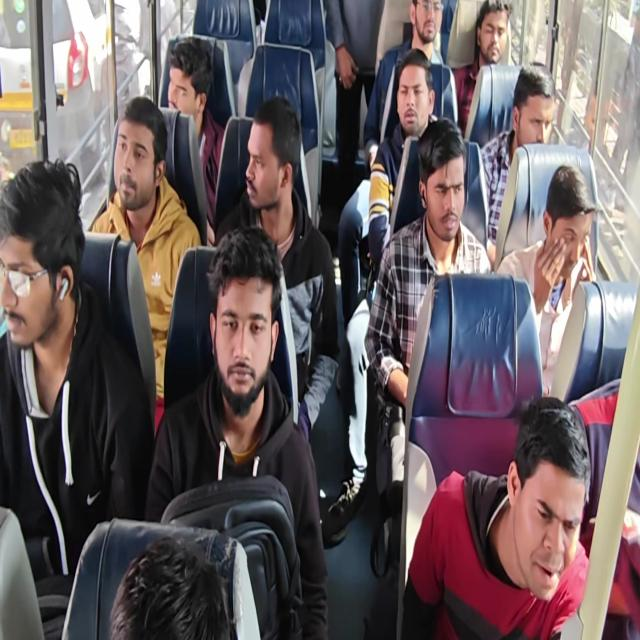person: (110, 529, 282, 640), (200, 237, 296, 429), (0, 170, 85, 386), (488, 406, 576, 601), (240, 95, 302, 223), (424, 134, 474, 251), (530, 193, 593, 285), (114, 100, 164, 214), (505, 61, 557, 158), (390, 52, 440, 148), (159, 42, 204, 132), (474, 1, 515, 69), (410, 0, 444, 44)
